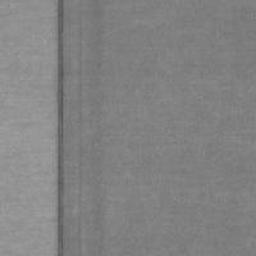Welding line: (55, 0, 65, 256)
